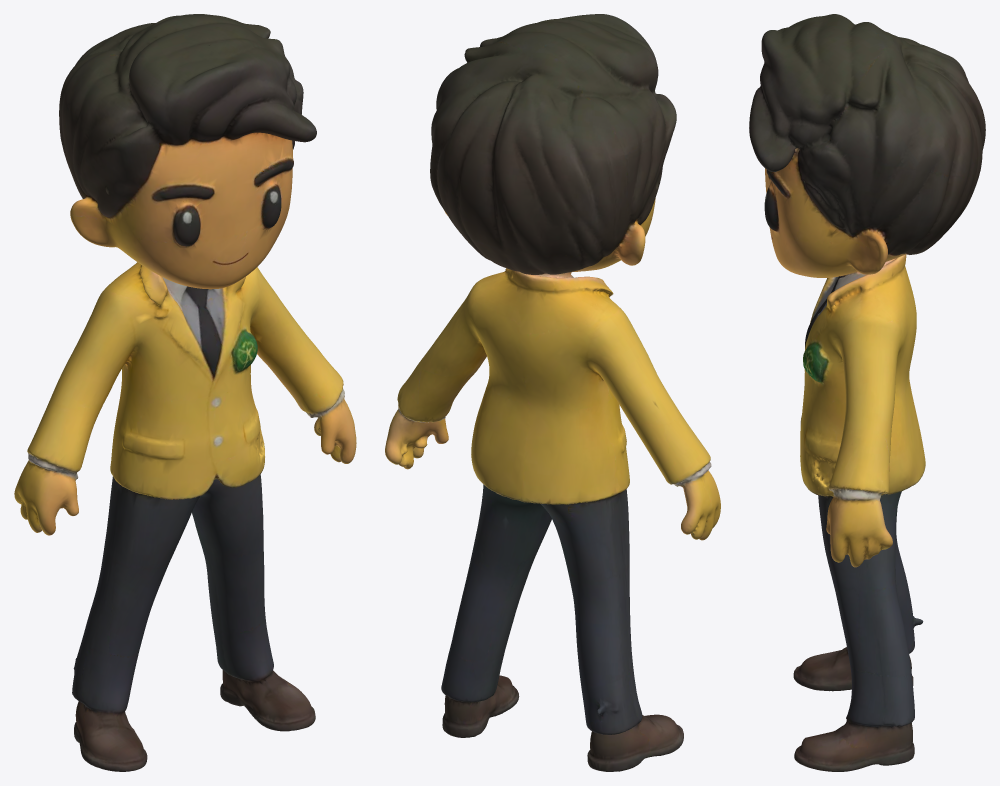
Rendered from avatar-sunny-scholar.glb.
3 views of the same model, side by side, from view 1: azimuth 30°, elevation 25°; view 2: azimuth 150°, elevation 25°; view 3: azimuth 270°, elevation 25° (orthographic). The views are drawn at different scales.
Bounding box in the file's own units: 0.9541 × 2 × 0.6209.
1 material, 1 textured.
